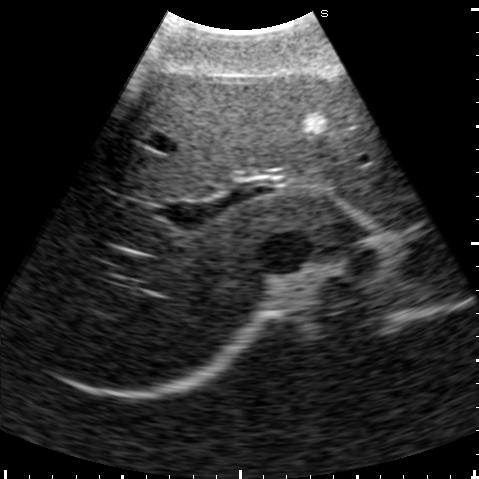IVC: (259, 231, 312, 275)
S1: (274, 196, 361, 247)
S2: (333, 187, 427, 229)
S3: (259, 73, 410, 190)
S4: (114, 71, 328, 198)
Tumor: (299, 112, 329, 135)
